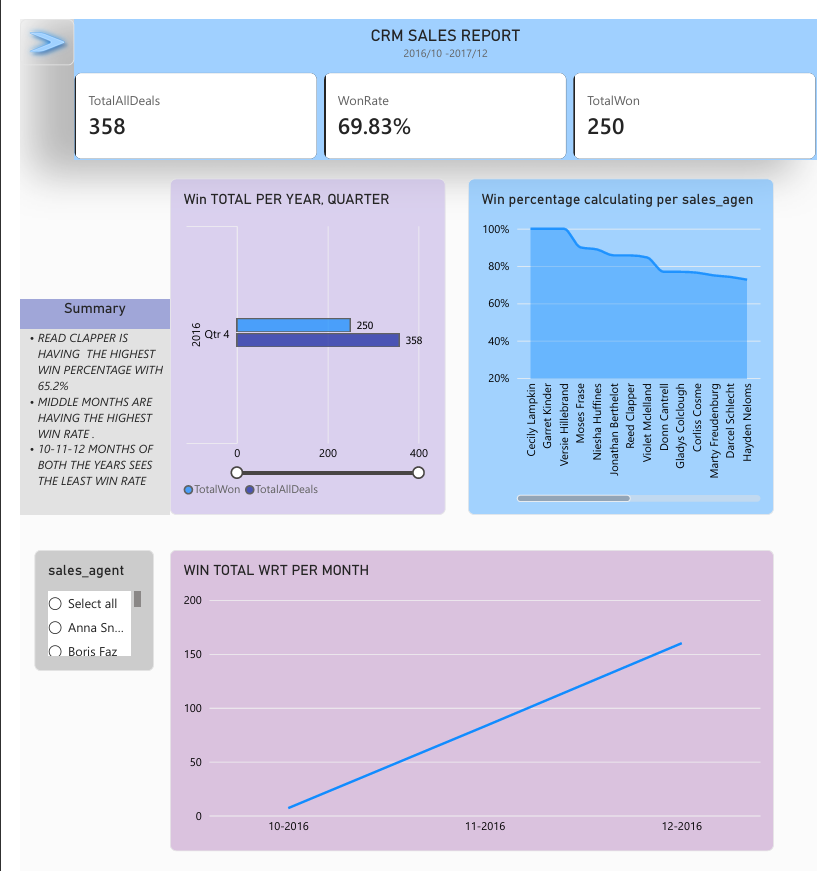

The page's visual inventory and layout, read from the dashboard file:
{"tool":"powerbi","page":{"name":"KPIs","canvas":[1000,1080],"ordinal":1},"visuals":[{"type":"cardVisual","title":"CRM SALES REPORT","fields":{"Data":["SALES.TotalAllDeals","SALES.WonRate","SALES.TotalWon"]},"box":[68,0,932,176],"z":0},{"type":"clusteredBarChart","title":"Win TOTAL PER YEAR, QUARTER","fields":{"Category":["SALES.engage_date.Variation.Date Hierarchy.Year","SALES.engage_date.Variation.Date Hierarchy.Quarter","SALES.engage_date.Variation.Date Hierarchy.Month","SALES.engage_date.Variation.Date Hierarchy.Day"],"Y":["SALES.TotalWon","SALES.TotalAllDeals"]},"box":[188,200,346,422],"z":1000},{"type":"lineChart","title":"Win percentage calculating per sales_agen","fields":{"Category":["SALES.sales_agent"],"Y":["SALES.WonRate"]},"box":[562,200,384,422],"z":2000},{"type":"lineChart","title":"WIN TOTAL WRT PER MONTH","fields":{"Category":["SALES.MON-YEAR"],"Y":["SALES.TotalWon"]},"box":[188,666,758,378],"z":3000},{"type":"textbox","title":"Summary","box":[0,352,188,270],"z":4000},{"type":"actionButton","title":"<-Back","box":[0,0,68.3,58.3],"z":5000},{"type":"listSlicer","fields":{"Values":["SALES.sales_agent"]},"box":[18,666,150,152],"z":6000}]}

Visuals, with their boxes on the page's 1000x1080 design canvas (x1, y1, x2, y2). These are canvas units, not pixel positions in the 837x871 screenshot, which may show the page scaled, cropped or inside an application window:
"CRM SALES REPORT" cardVisual: 68,0,1000,176
"Win TOTAL PER YEAR, QUARTER" clusteredBarChart: 188,200,534,622
"Win percentage calculating per sales_agen" lineChart: 562,200,946,622
"WIN TOTAL WRT PER MONTH" lineChart: 188,666,946,1044
"Summary" textbox: 0,352,188,622
"<-Back" actionButton: 0,0,68,58
listSlicer - SALES.sales_agent: 18,666,168,818
